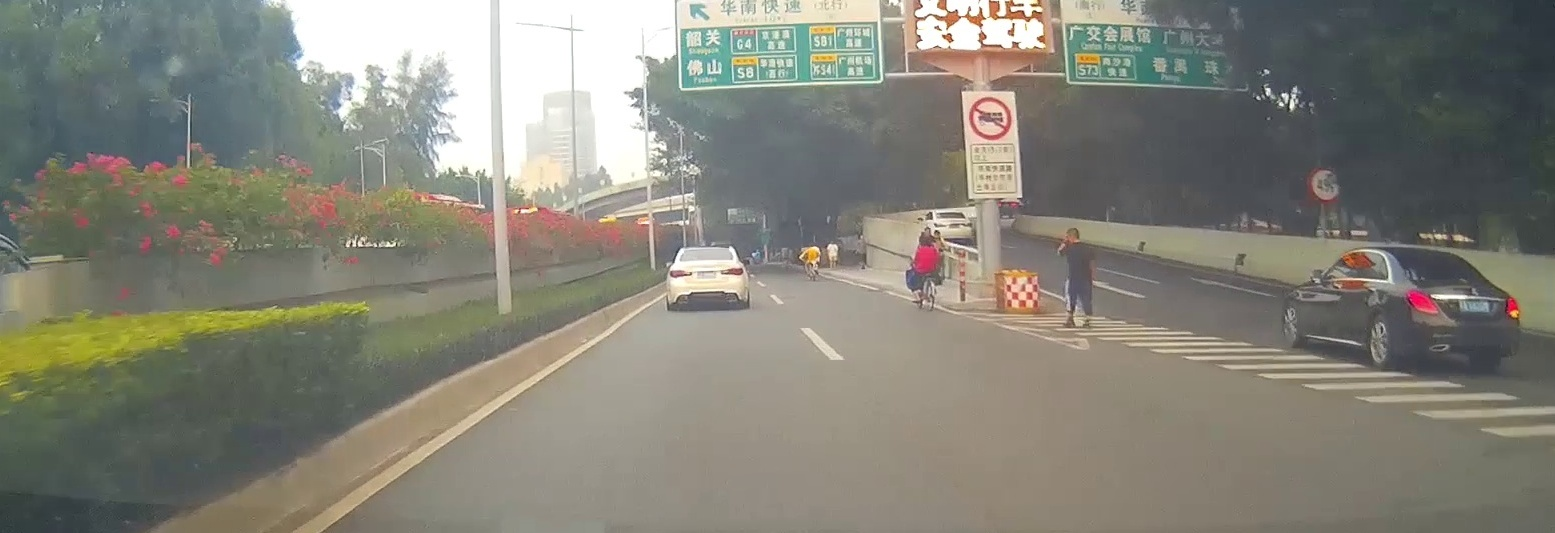L_light: (1406, 289, 1439, 315), (669, 270, 693, 279)
R_light: (1504, 297, 1520, 319), (721, 266, 744, 275)
T_light: (1425, 255, 1441, 260), (702, 249, 712, 251)
day-no: (667, 247, 749, 311)
day-right: (1390, 246, 1523, 372)
